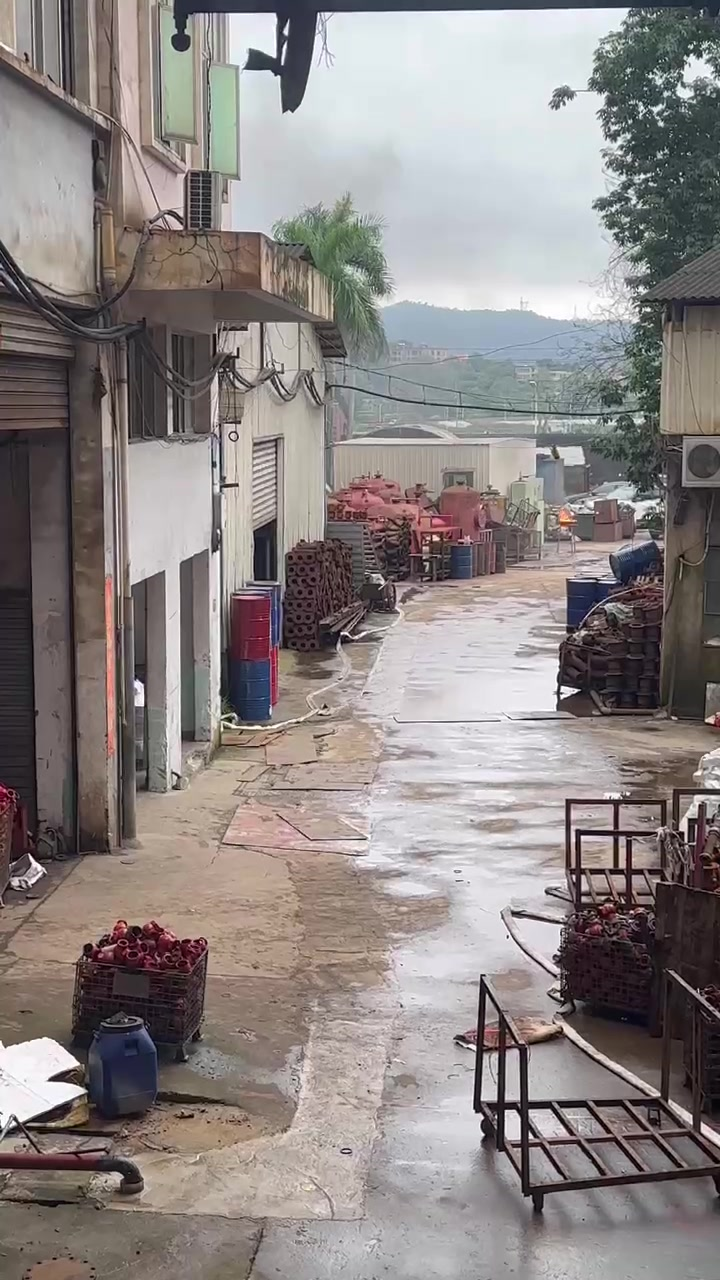fire: (558, 508, 577, 521)
